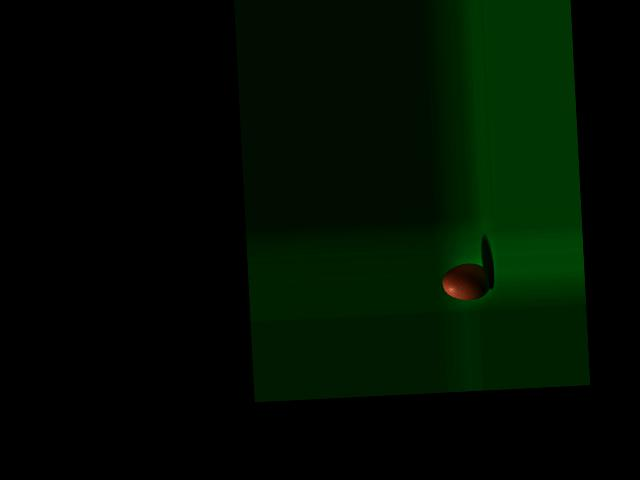egg: (441, 262, 492, 301)
